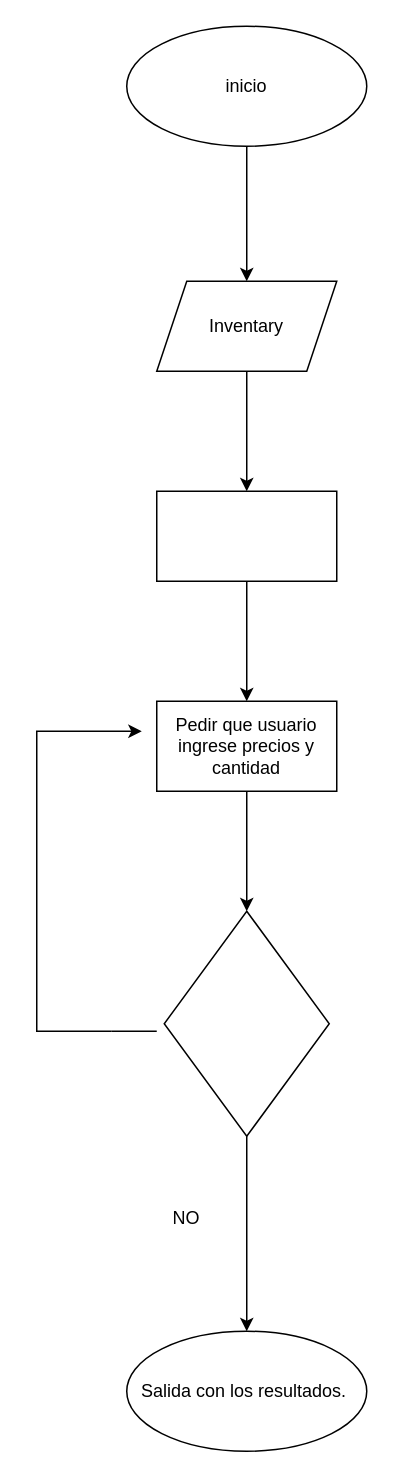
Image size: 393x1478. Some labels were removed from this diagram. Each missing label, with the centre of its shape:
"Pedir al Usuario que ingrese su nombre" belongs at (246,535).
"preguntarle al usuario si quiere agregar algun precio o producto adicional" belongs at (246,1023).
